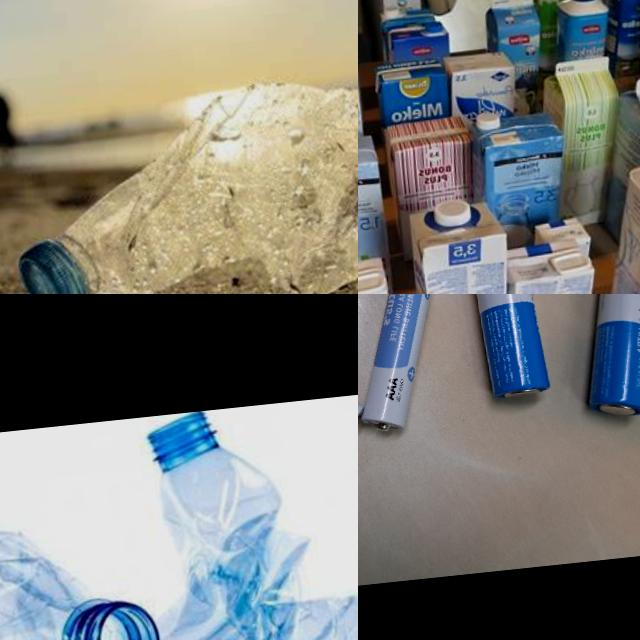bateria: (358, 294, 452, 437), (462, 294, 549, 402), (571, 294, 640, 421)
caixinha: (536, 55, 632, 229), (468, 111, 570, 231), (404, 198, 521, 294), (385, 112, 480, 210), (587, 68, 640, 242), (490, 234, 603, 294), (443, 47, 521, 121), (372, 55, 454, 124), (480, 0, 547, 79), (523, 0, 585, 70), (358, 126, 388, 263), (593, 0, 640, 79), (384, 16, 451, 62), (379, 0, 423, 11)
garrafa plástica: (45, 70, 358, 294), (84, 392, 358, 640)
tampa plástica: (16, 235, 87, 294), (432, 195, 472, 225), (424, 20, 444, 32)
